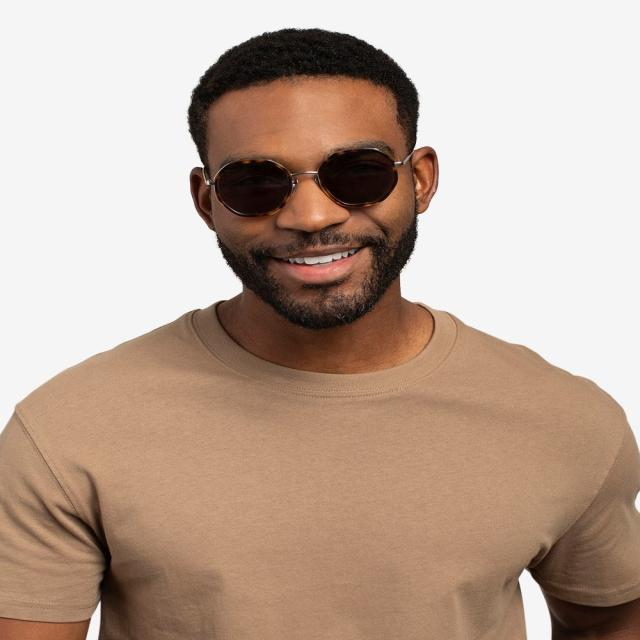2_gafas: (202, 145, 415, 218)
